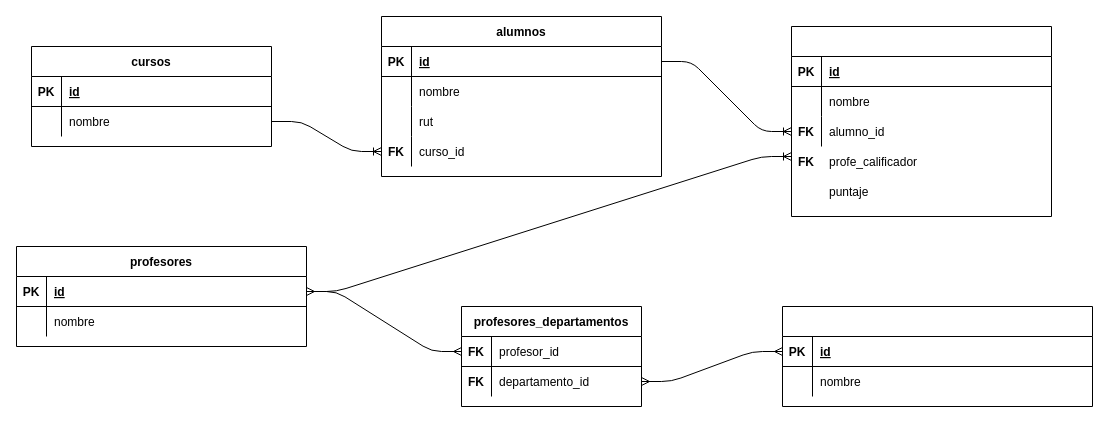
This 1109x423 diagram has some shape labels left out. The shapes that lost their labels are listed below. From the top down, each one's box as (x1, y1, x2, y2) in pixels, then its label:
(790, 26, 1052, 216): pruebas
(782, 306, 1092, 406): departamentos
